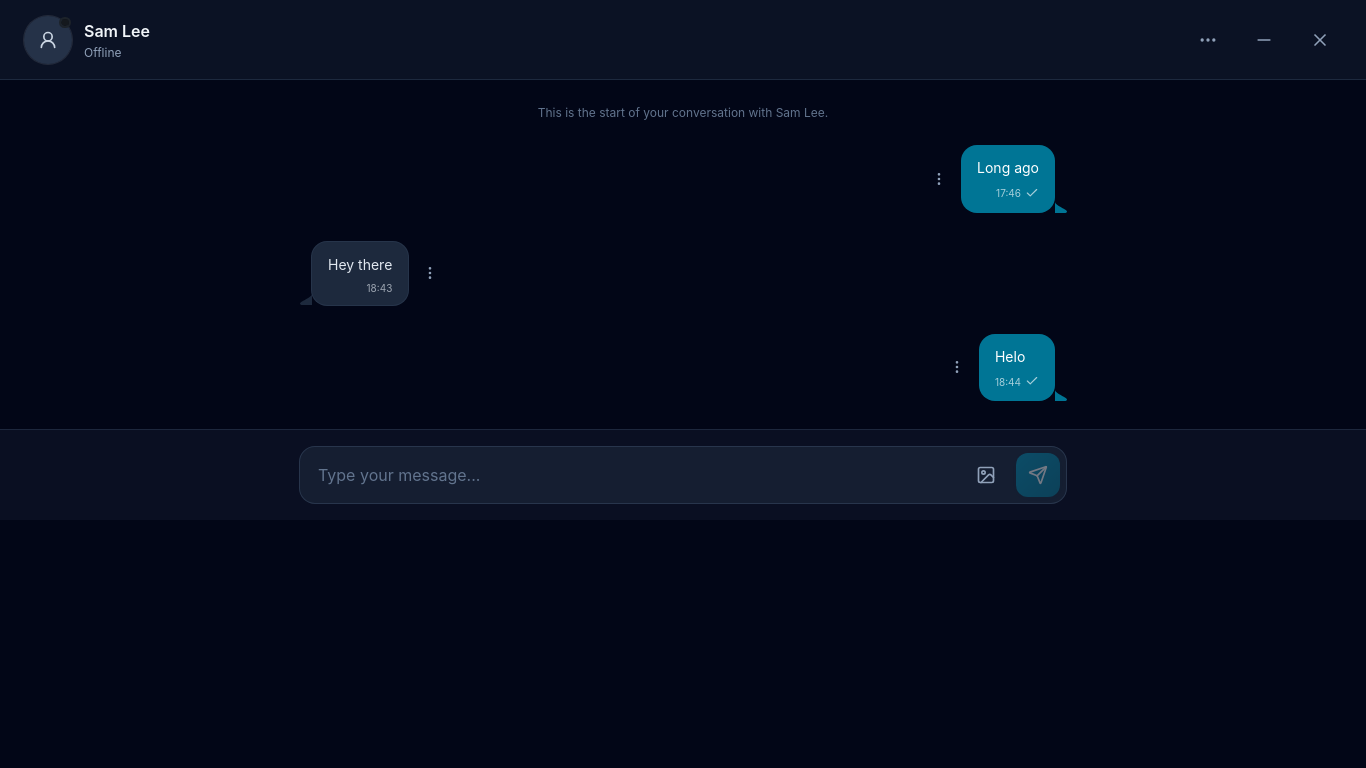
Test: message actions › edits a recent message in place and marks it as edited, without jumping to the bottom
Click the button named "Message actions" next to "Helo" at (957, 367), box [939,349,975,385]
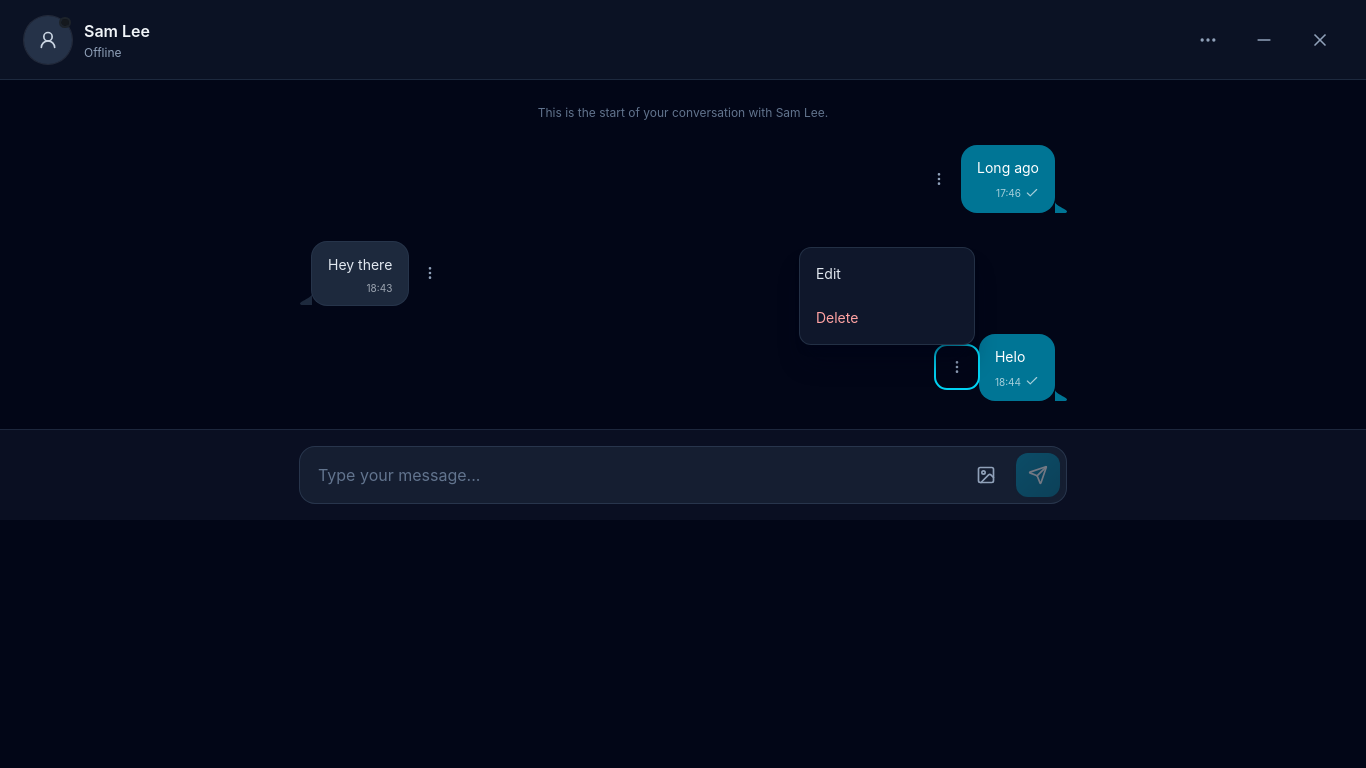
Click the button "Edit" at (887, 274), box [804,252,970,296]
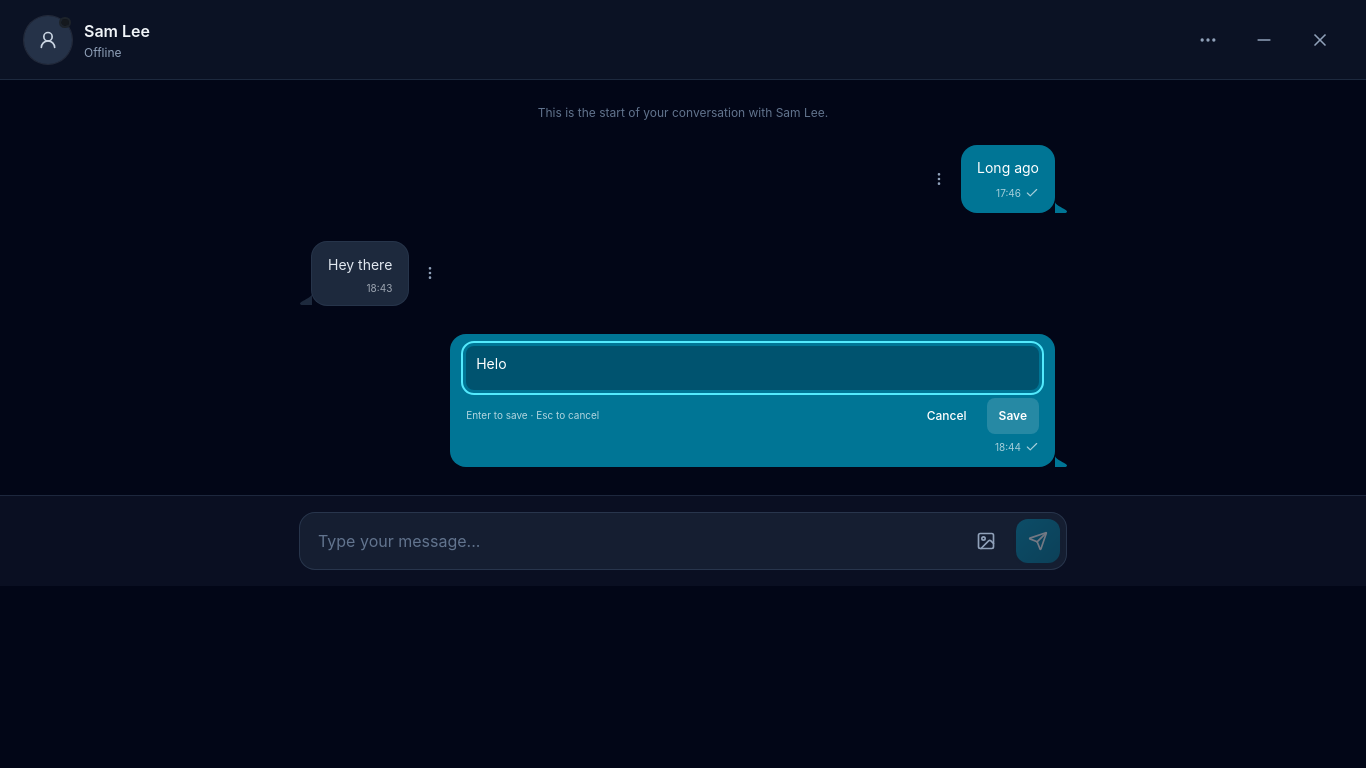
Replace the text in the text box named "Edit message" with "Hello" at (753, 368), box [466,346,1039,390]
Then press Enter
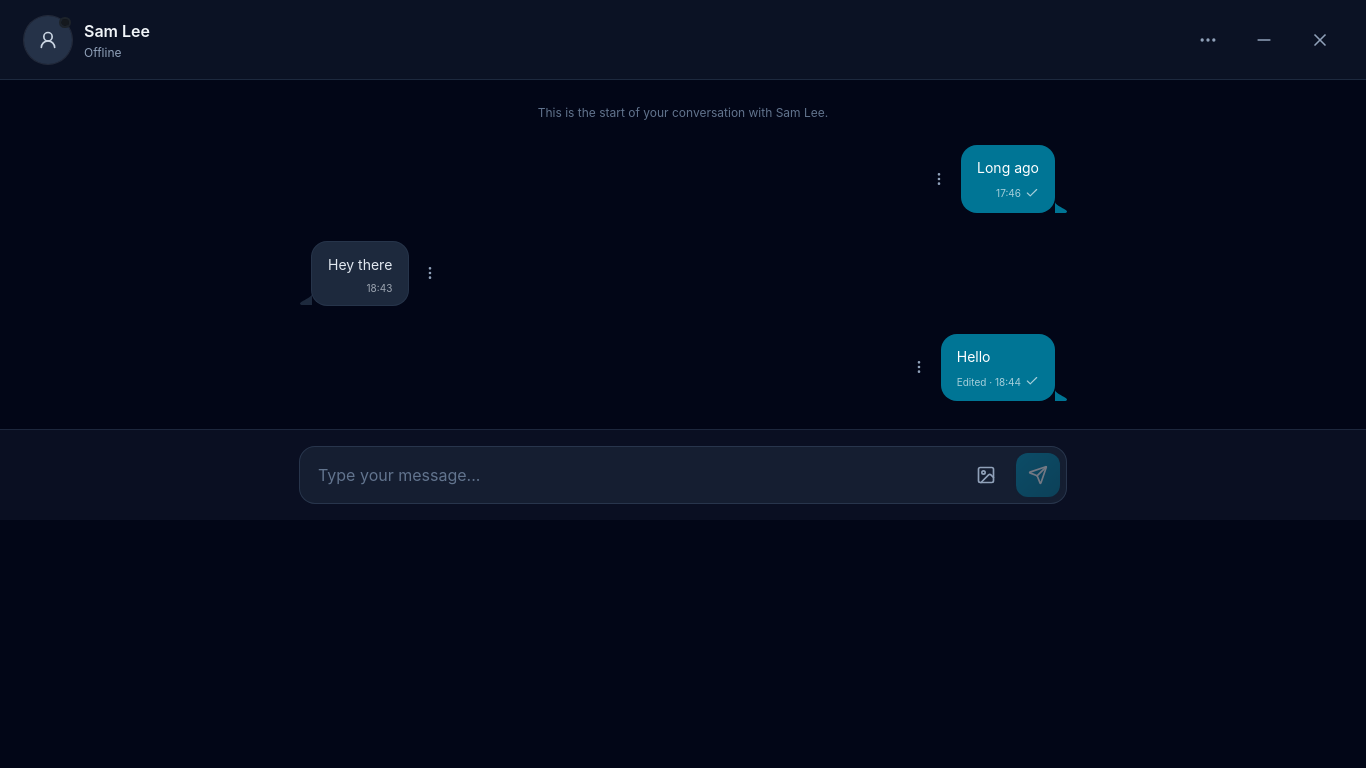
Expected: the text "Hello" is shown, [957,348,990,364]
Expected: the text "Edited ·" is shown, [957,376,995,388]
